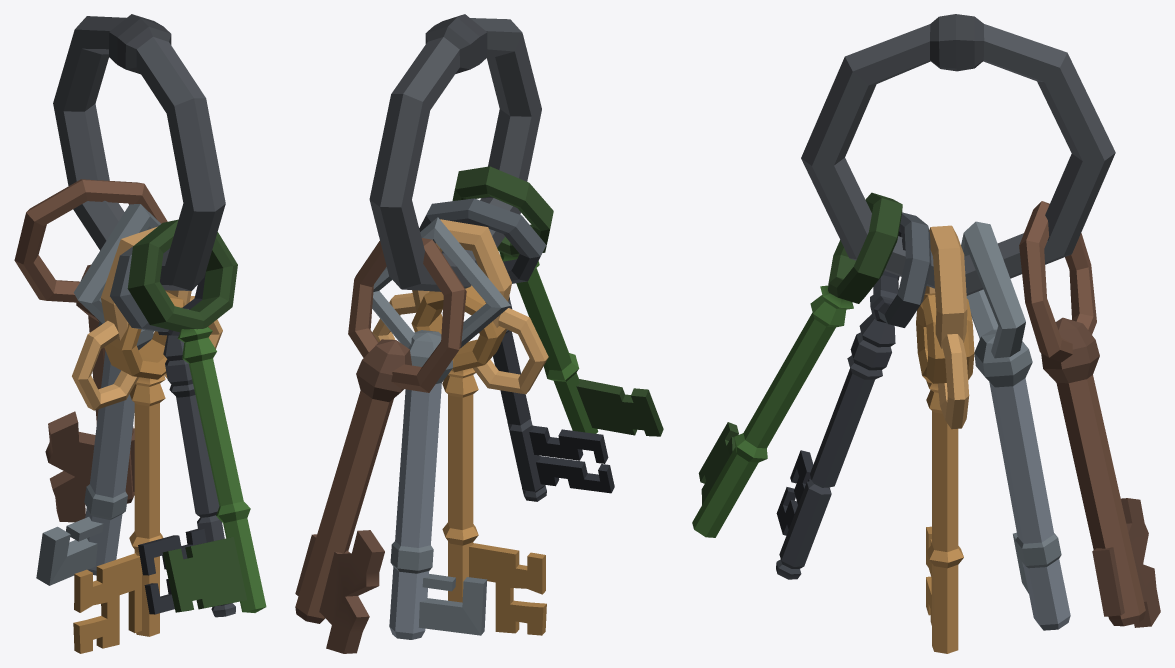
The model's file is SM_Prop_Key_Ring_Preset_01.fbx.
3 views of the same model, side by side, from view 1: azimuth 30°, elevation 25°; view 2: azimuth 150°, elevation 25°; view 3: azimuth 270°, elevation 25° (orthographic). The views are drawn at different scales.
Visible parts, largest first — view 1: SM_Prop_Key_Ring_Preset_01; view 2: SM_Prop_Key_Ring_Preset_01; view 3: SM_Prop_Key_Ring_Preset_01.
Boxes of the visible parts, x1=… form: SM_Prop_Key_Ring_Preset_01: x1=14, y1=14, x2=266, y2=653; SM_Prop_Key_Ring_Preset_01: x1=295, y1=14, x2=663, y2=653; SM_Prop_Key_Ring_Preset_01: x1=692, y1=14, x2=1160, y2=653.
Bounding box in the file's own units: 12.98 × 45.64 × 30.45.
